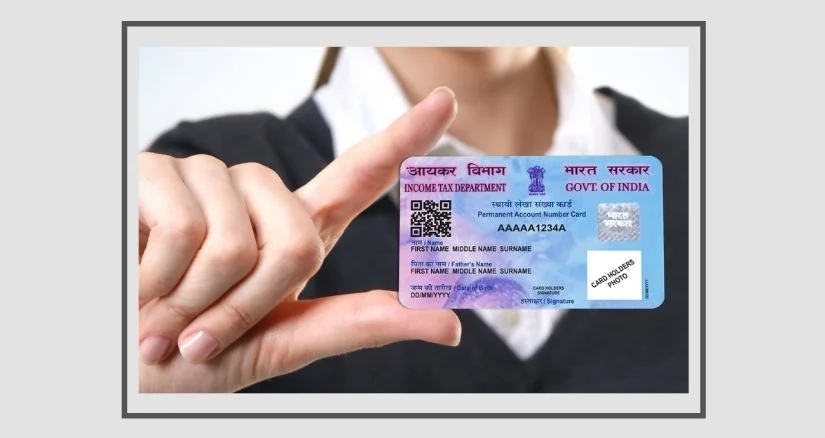pan: (398, 157, 664, 310)
